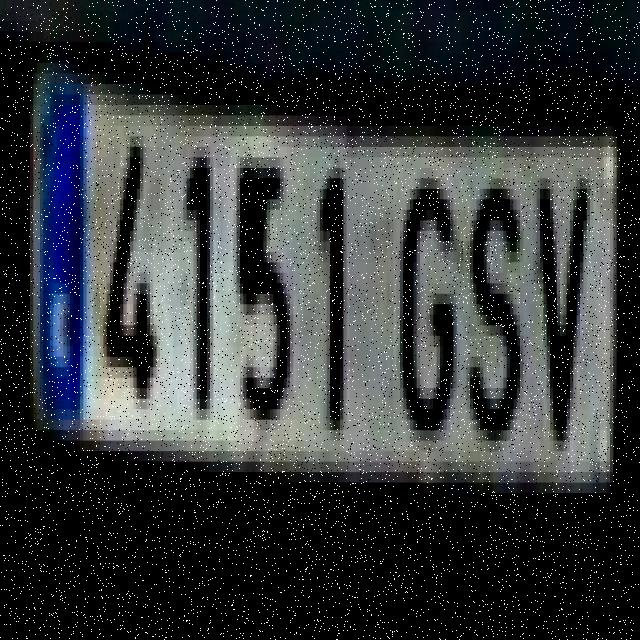licenseplate: (26, 52, 627, 520)
